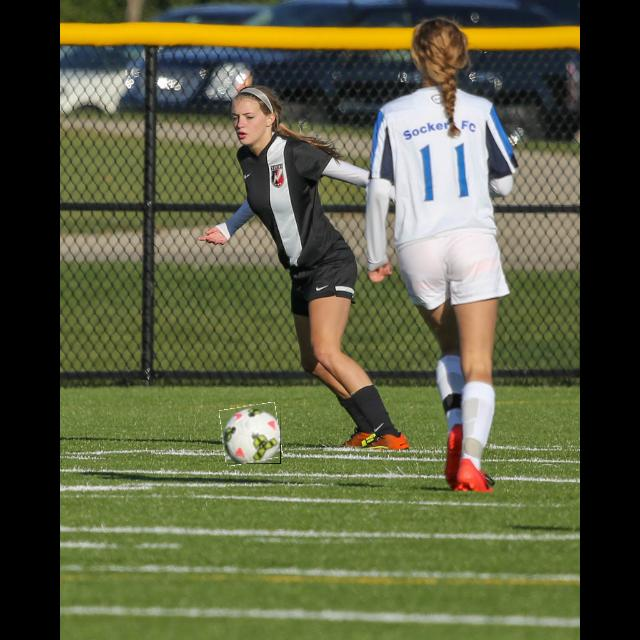Football: (221, 404, 281, 464)
